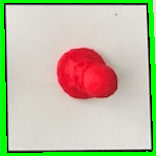Red Pawn: (52, 42, 121, 104)
